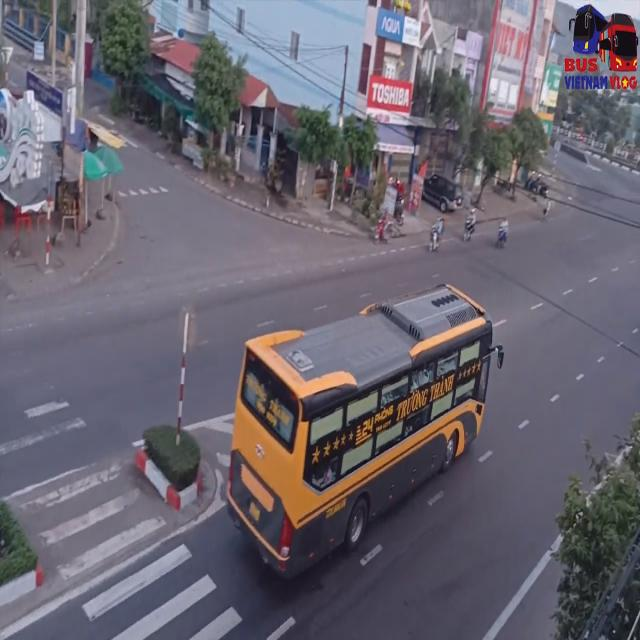bus: (232, 296, 502, 588)
motorbike: (429, 214, 443, 256), (494, 214, 509, 250), (463, 212, 477, 248)
